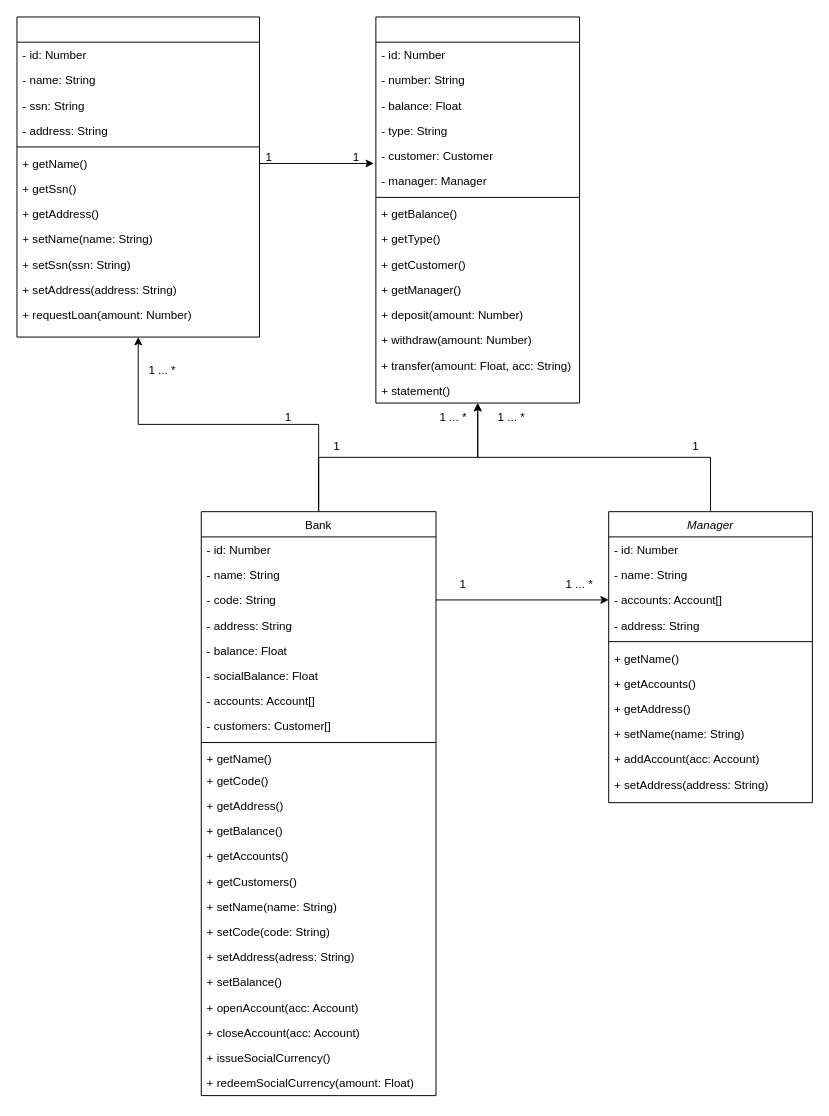
The diagram is 829 pixels wide and 1116 high, and some of its shapes have lost their labels. The box of each missing label's shape, as (x1, y1, x2, y2) in pixels:
Account: (375, 16, 580, 403)
Customer: (16, 16, 259, 337)
